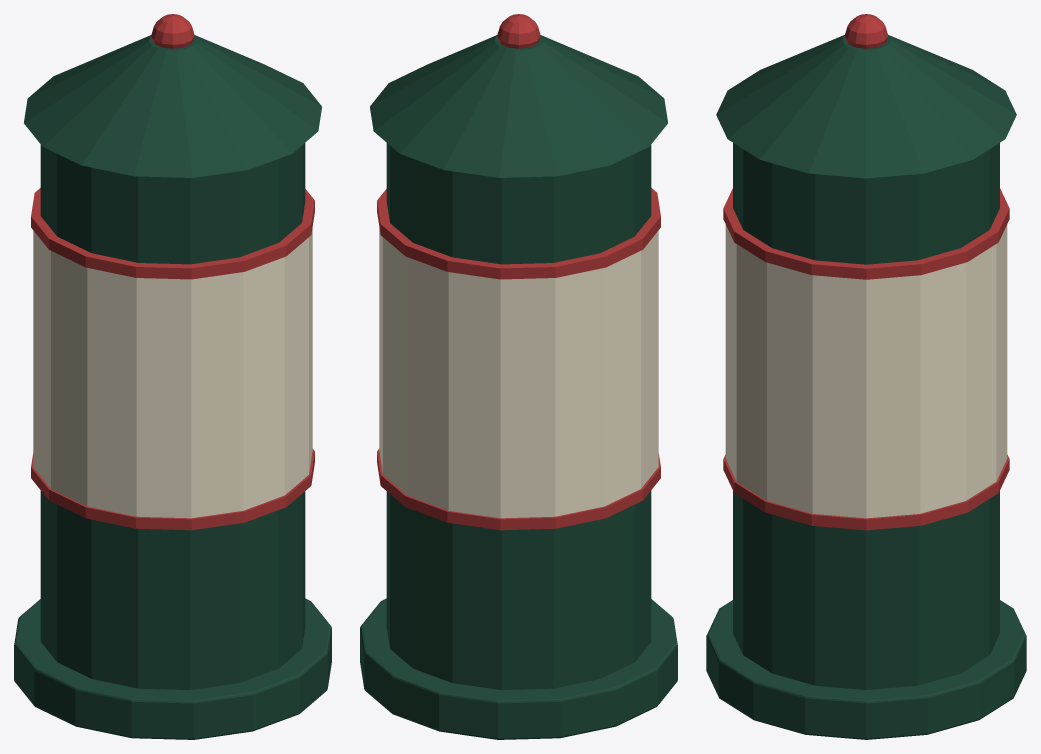
Rendered from SM_Litfasssaeule.glb.
3 views of the same model, side by side, from view 1: azimuth 30°, elevation 25°; view 2: azimuth 150°, elevation 25°; view 3: azimuth 270°, elevation 25° (orthographic).
Parts seen in each view (by area): view 1: SM_Litfasssaeule; view 2: SM_Litfasssaeule; view 3: SM_Litfasssaeule.
Boxes of the visible parts, <box> form: SM_Litfasssaeule: <box>14,14,331,739</box>; SM_Litfasssaeule: <box>360,14,677,739</box>; SM_Litfasssaeule: <box>706,14,1026,739</box>.
Size of what is drawn, in the model's own units: 1.32 by 2.99 by 1.32.
